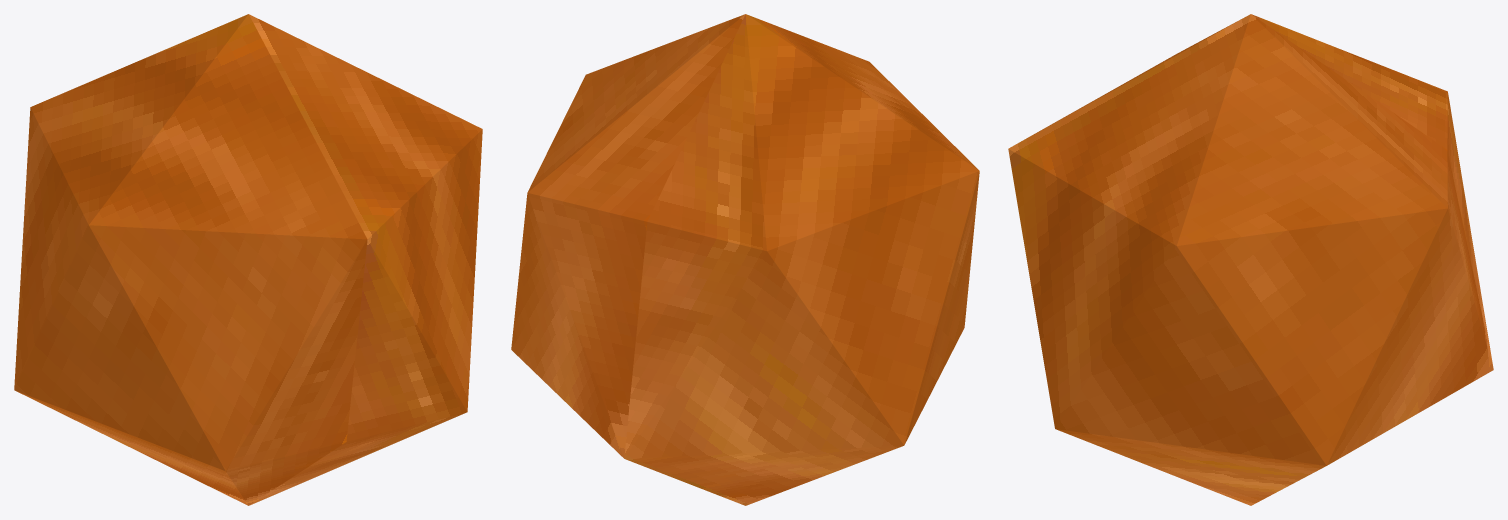
File: enemyBullet.glb
3 views of the same model, side by side, from view 1: azimuth 30°, elevation 25°; view 2: azimuth 150°, elevation 25°; view 3: azimuth 270°, elevation 25° (orthographic).
Parts seen in each view (by area): view 1: Icosphere.010; view 2: Icosphere.010; view 3: Icosphere.010.
Boxes of the visible parts, left/top/right/bottom form: Icosphere.010: left=14, top=14, right=482, bottom=505; Icosphere.010: left=511, top=14, right=979, bottom=505; Icosphere.010: left=1008, top=14, right=1493, bottom=505.
Size of the model in its own units: 1.48 by 1.77 by 1.58.
1 material, 1 textured.
